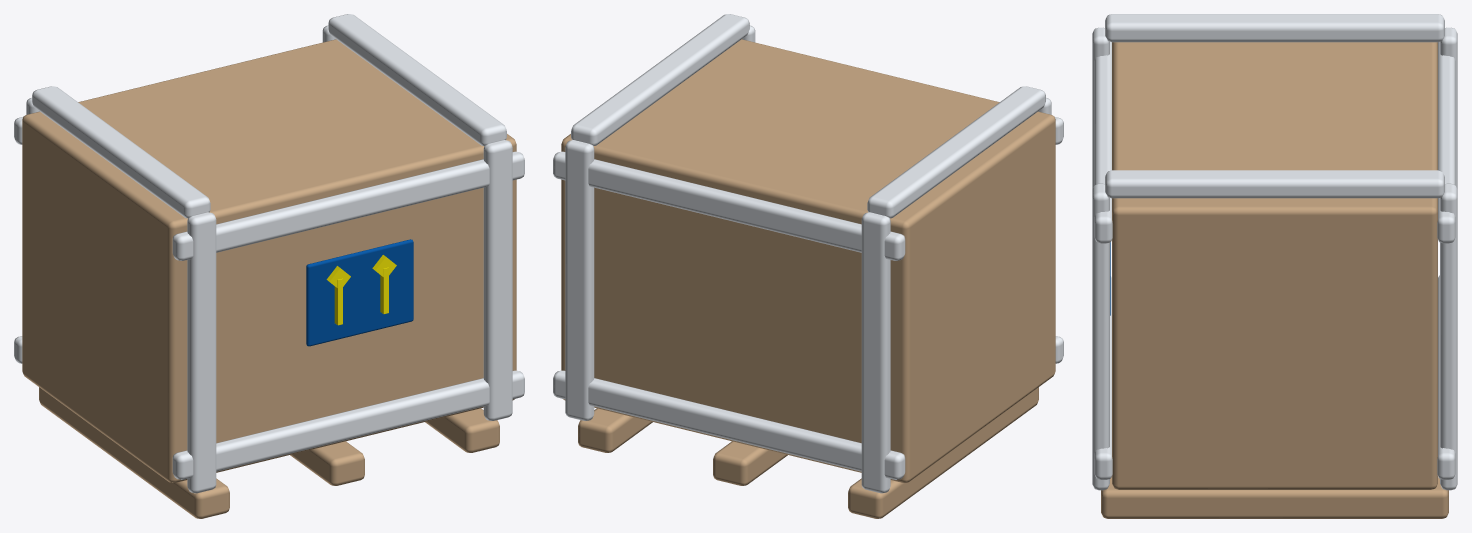
Rendered from transport-crate.glb.
3 renders of one model, left to right at view 1: azimuth 30°, elevation 25°; view 2: azimuth 150°, elevation 25°; view 3: azimuth 270°, elevation 25°, orthographic. The views are drawn at different scales.
Visible parts, largest first — view 1: Caisse, Traverse (×2), Renfort vertical (×2), Renfort dessus (×2), Palette (×3), Étiquette; view 2: Caisse, Traverse (×2), Renfort vertical (×2), Renfort dessus (×2), Palette (×3); view 3: Caisse, Renfort dessus (×2), Renfort vertical (×4), Palette, Traverse (×4).
Boxes of the visible parts, <box> form: Caisse: <box>22,39,516,482</box>; Traverse (×2): <box>172,151,524,479</box>; Renfort vertical (×2): <box>187,140,512,493</box>; Renfort dessus (×2): <box>32,14,506,218</box>; Palette (×3): <box>39,387,499,518</box>; Étiquette: <box>306,239,413,346</box>; Caisse: <box>561,39,1055,482</box>; Traverse (×2): <box>553,151,905,479</box>; Renfort vertical (×2): <box>565,140,890,493</box>; Renfort dessus (×2): <box>571,14,1045,218</box>; Palette (×3): <box>578,387,1038,518</box>; Caisse: <box>1112,42,1437,489</box>; Renfort dessus (×2): <box>1105,14,1444,198</box>; Renfort vertical (×4): <box>1092,27,1457,490</box>; Palette: <box>1101,477,1448,518</box>; Traverse (×4): <box>1094,41,1455,479</box>.
Bounding box in the file's own units: 1.6 × 1.4 × 1.34.
